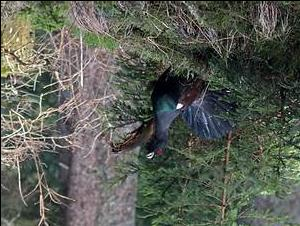hen: (109, 64, 237, 160)
